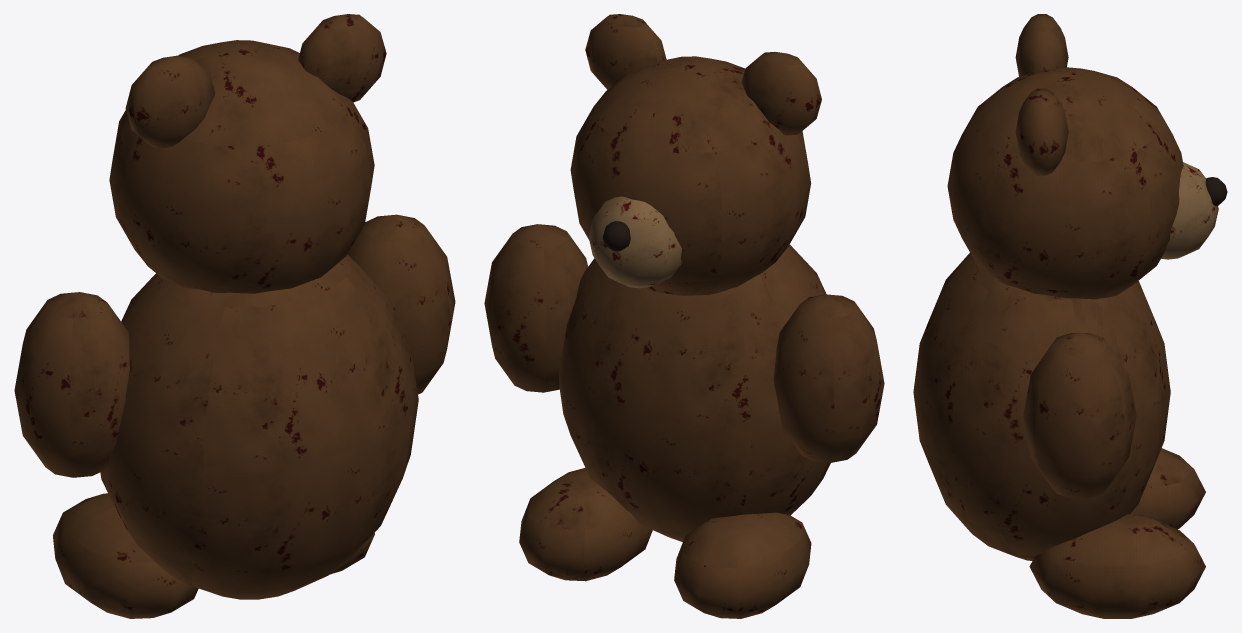
The model's file is teddy.gltf.
3 renders of one model, left to right at view 1: azimuth 30°, elevation 25°; view 2: azimuth 150°, elevation 25°; view 3: azimuth 270°, elevation 25°, orthographic. The views are drawn at different scales.
Visible parts, largest first — view 1: Teddy; view 2: Teddy; view 3: Teddy.
Part boxes in pixels (<box>): Teddy: <box>14,14,455,618</box>; Teddy: <box>484,14,884,618</box>; Teddy: <box>913,14,1227,618</box>.
Size of the model in its own units: 0.3456 by 0.455 by 0.249.
Materials: 3 (2 with a texture image).
